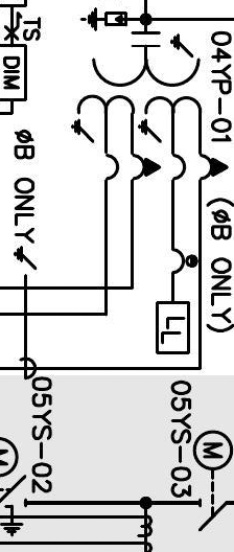115_cvt_1p: (70, 31, 229, 183)
115_la: (79, 7, 128, 32)
LL: (155, 301, 190, 355)
